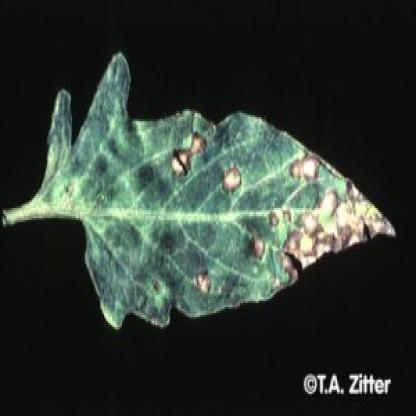Tomato Septoria leaf spot: (15, 44, 392, 355)
